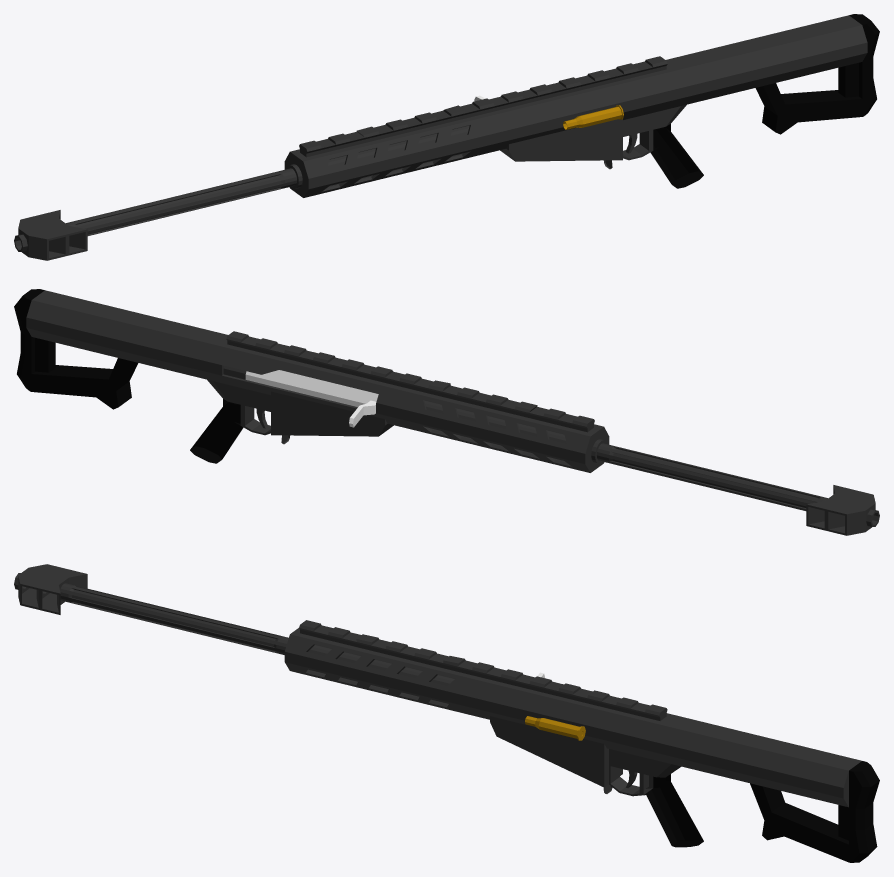
File: barrett_m82.glb
3 renders of one model, top to bottom at view 1: azimuth 30°, elevation 25°; view 2: azimuth 150°, elevation 25°; view 3: azimuth 330°, elevation 25°, orthographic.
Parts seen in each view (by area): view 1: Cube_0 (×2), Cylinder.002_4; view 2: Cube_0 (×2), Cube.005_1; view 3: Cube_0 (×2), Cylinder.002_4.
Boxes of the visible parts, bbox=[...] form: Cube_0 (×2): bbox=[14, 14, 879, 260]; Cylinder.002_4: bbox=[563, 105, 623, 129]; Cube_0 (×2): bbox=[14, 289, 879, 535]; Cube.005_1: bbox=[245, 370, 378, 427]; Cube_0 (×2): bbox=[14, 564, 879, 862]; Cylinder.002_4: bbox=[525, 716, 585, 740].
Size of the model in its own units: 15.46 by 2.26 by 1.76.
